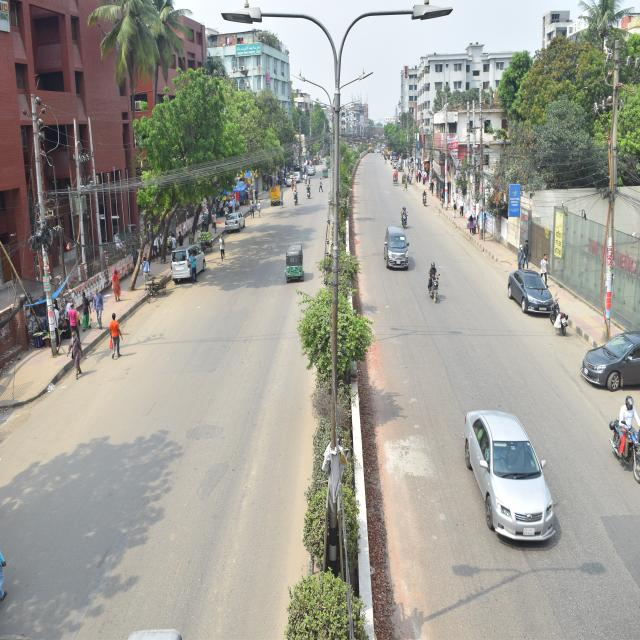car: (457, 384, 568, 551), (579, 333, 640, 395), (504, 262, 559, 328)
microbus: (170, 237, 213, 290), (380, 220, 415, 279), (225, 207, 249, 235)
motorbike: (608, 410, 640, 490), (550, 294, 574, 340), (424, 269, 444, 306), (399, 207, 411, 230), (302, 188, 314, 205), (290, 188, 299, 207), (420, 194, 429, 204)
pickup-van: (270, 184, 284, 207)
